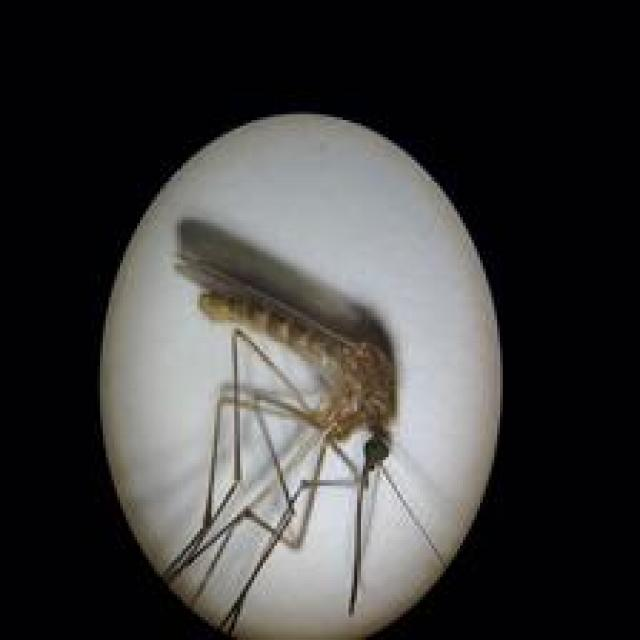Culex: (99, 111, 504, 640)
